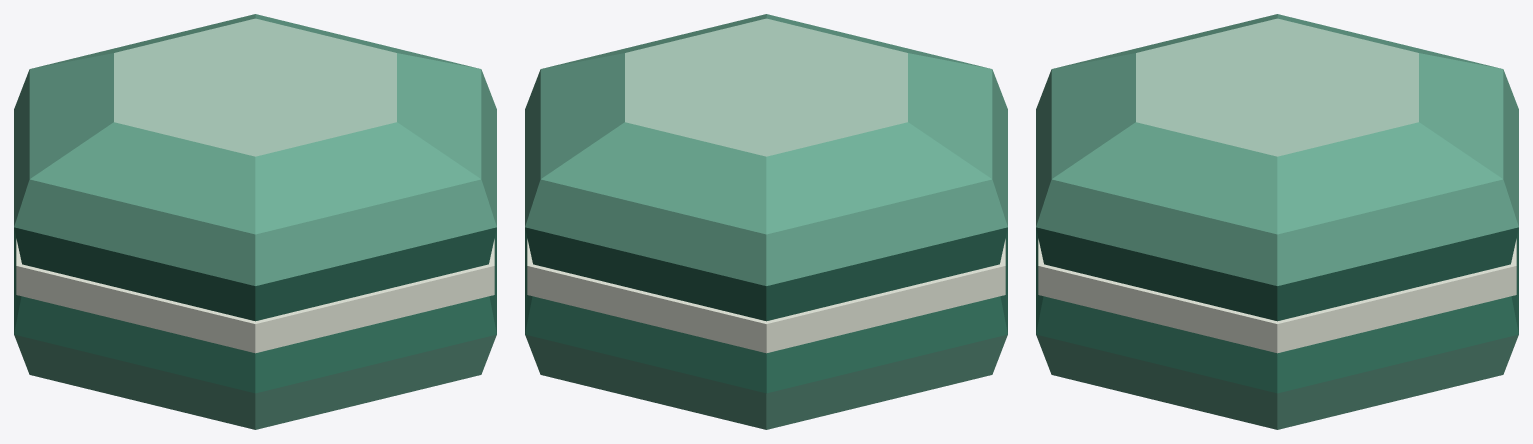
Rendered from TB_CITY_Prop_Macaron_D.FBX.
3 views of the same model, side by side, from view 1: azimuth 30°, elevation 25°; view 2: azimuth 150°, elevation 25°; view 3: azimuth 270°, elevation 25° (orthographic).
Parts seen in each view (by area): view 1: TB_CITY_Prop_Macaron_D; view 2: TB_CITY_Prop_Macaron_D; view 3: TB_CITY_Prop_Macaron_D.
Part boxes in pixels (left/top/right/bottom): TB_CITY_Prop_Macaron_D: left=14, top=14, right=496, bottom=429; TB_CITY_Prop_Macaron_D: left=525, top=14, right=1007, bottom=429; TB_CITY_Prop_Macaron_D: left=1036, top=14, right=1518, bottom=429.
Size of the model in its own units: 0.6032 by 0.3207 by 0.5224.
